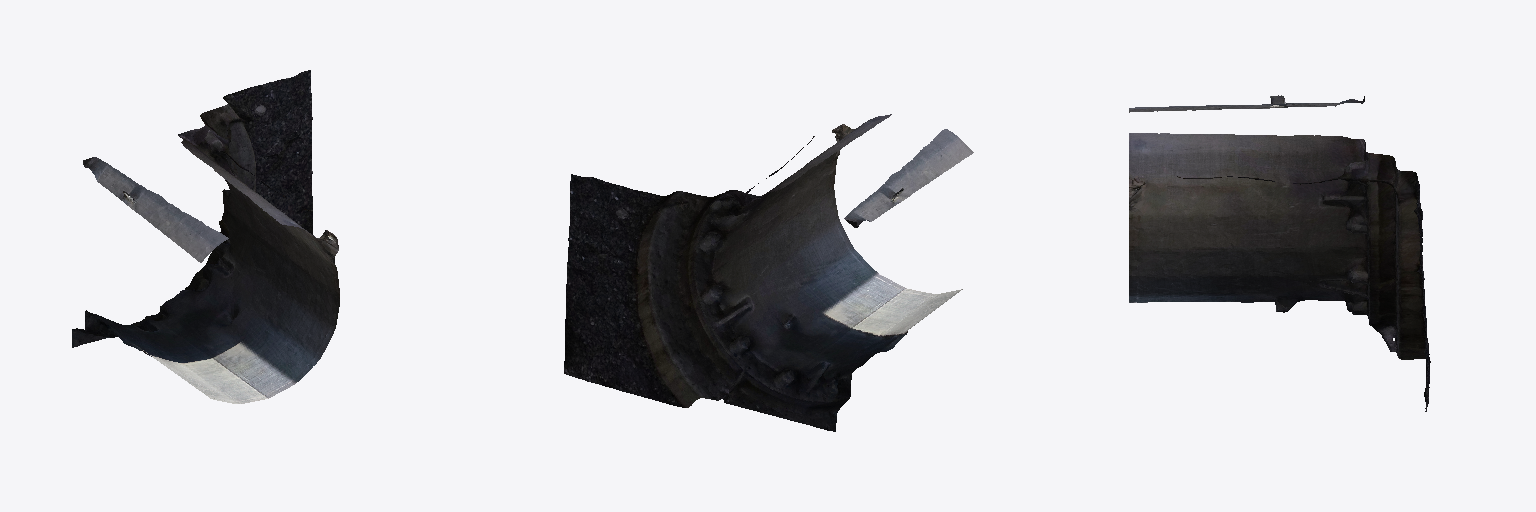
3 renders of one model, left to right at view 1: azimuth 30°, elevation 25°; view 2: azimuth 150°, elevation 25°; view 3: azimuth 270°, elevation 25°, orthographic.
Size of the model in its own units: 2.11 by 1.59 by 2.1.
2 materials, 1 textured.